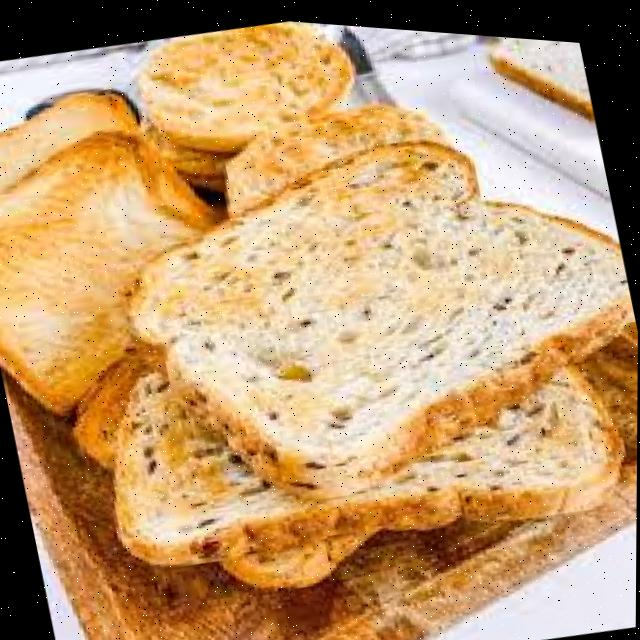Bread: (133, 135, 631, 490), (118, 371, 462, 584), (0, 88, 216, 412), (422, 357, 624, 512), (500, 30, 589, 86)
